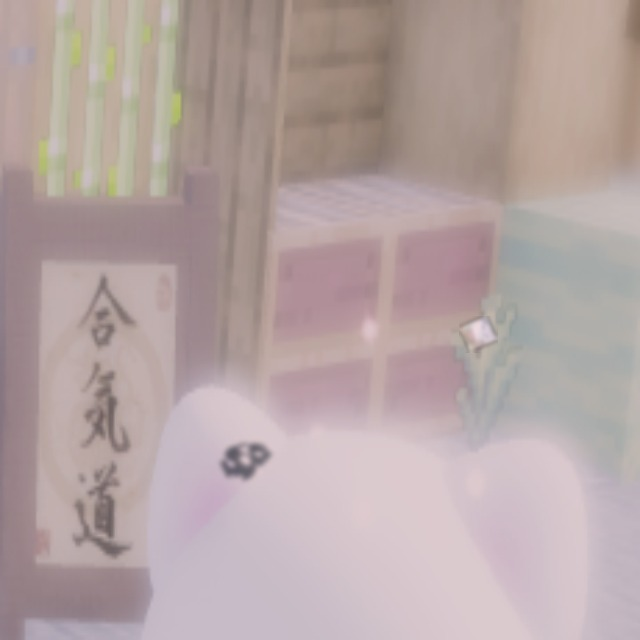urso_branco: (459, 316, 498, 353)
urso_preto: (215, 430, 282, 491)
